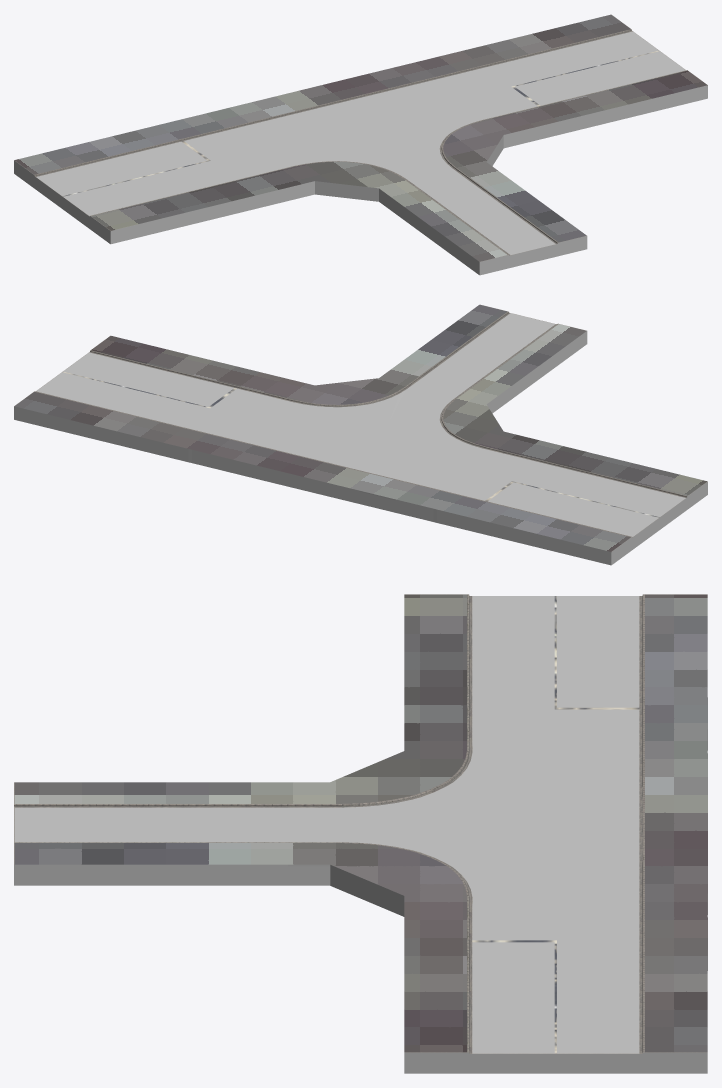
Rendered from Road_03a_t.fbx.
3 views of the same model, one above another, from view 1: azimuth 30°, elevation 25°; view 2: azimuth 150°, elevation 25°; view 3: azimuth 270°, elevation 25° (orthographic). The views are drawn at different scales.
Visible parts, largest first — view 1: Road_03a_t; view 2: Road_03a_t; view 3: Road_03a_t.
Part boxes in pixels (<box>): Road_03a_t: <box>14,14,707,275</box>; Road_03a_t: <box>14,304,707,565</box>; Road_03a_t: <box>14,594,707,1073</box>.
Bounding box in the file's own units: 100 × 2.17 × 64.02.
